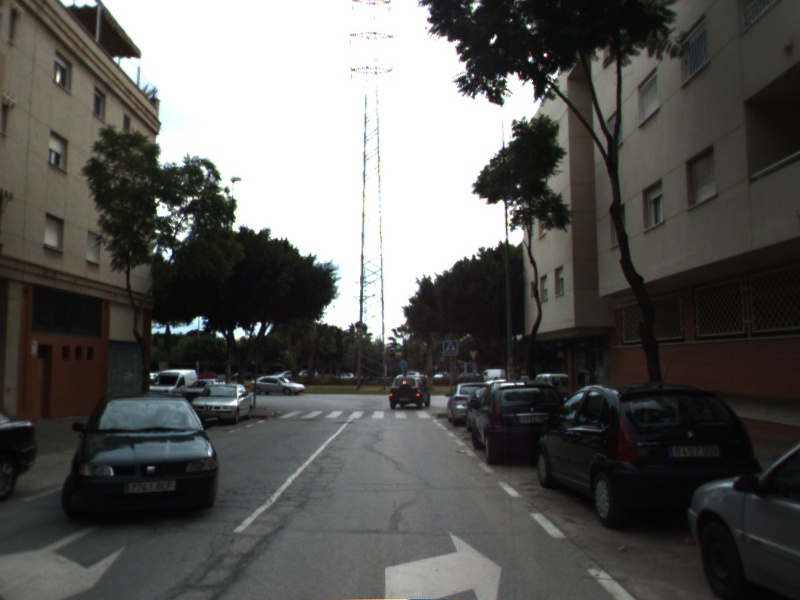RIGHT: (379, 527, 507, 600)
